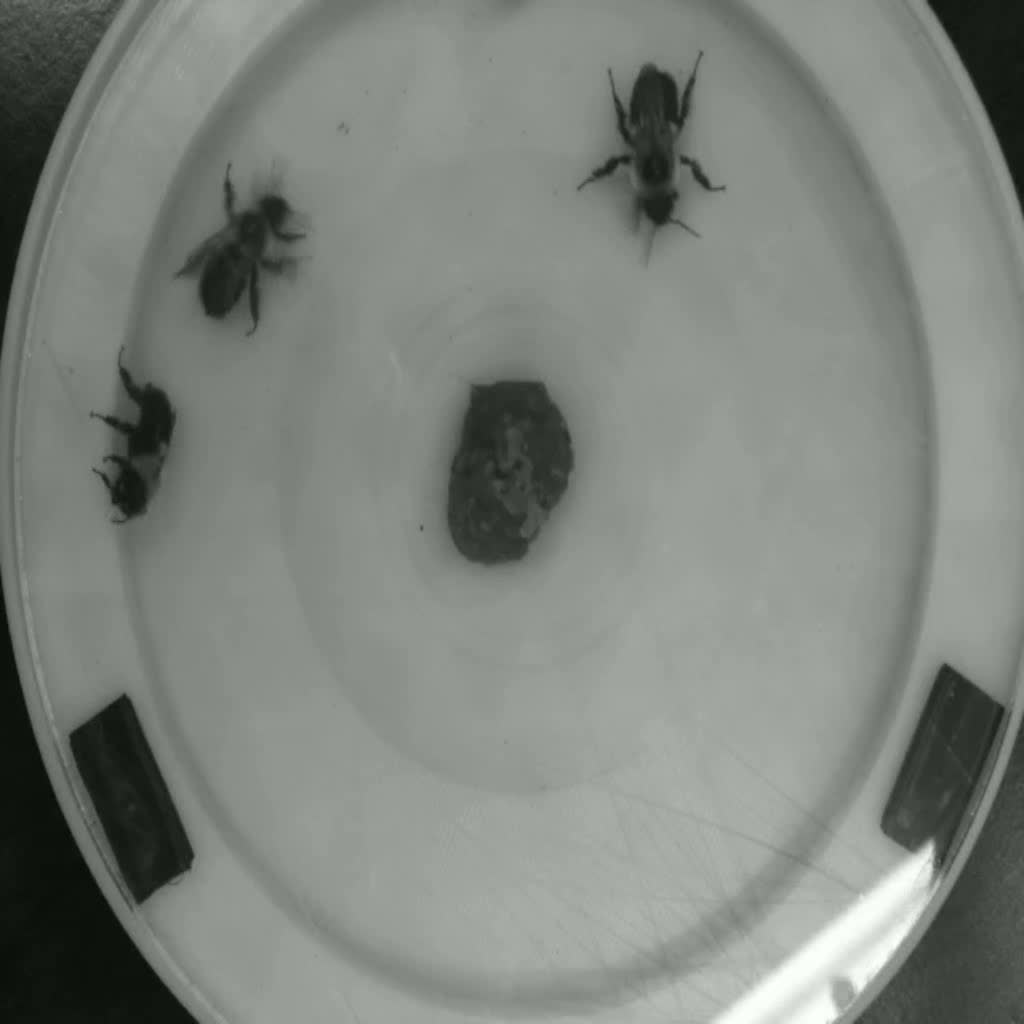bee: (598, 58, 724, 245), (178, 174, 314, 320), (103, 372, 180, 531)
